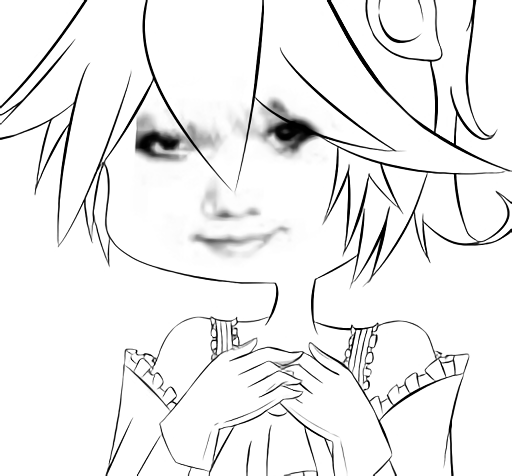dragon: (131, 106, 331, 260)
